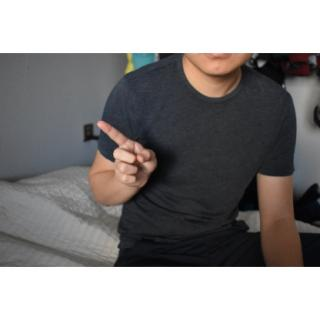BAA: (96, 118, 162, 190)
